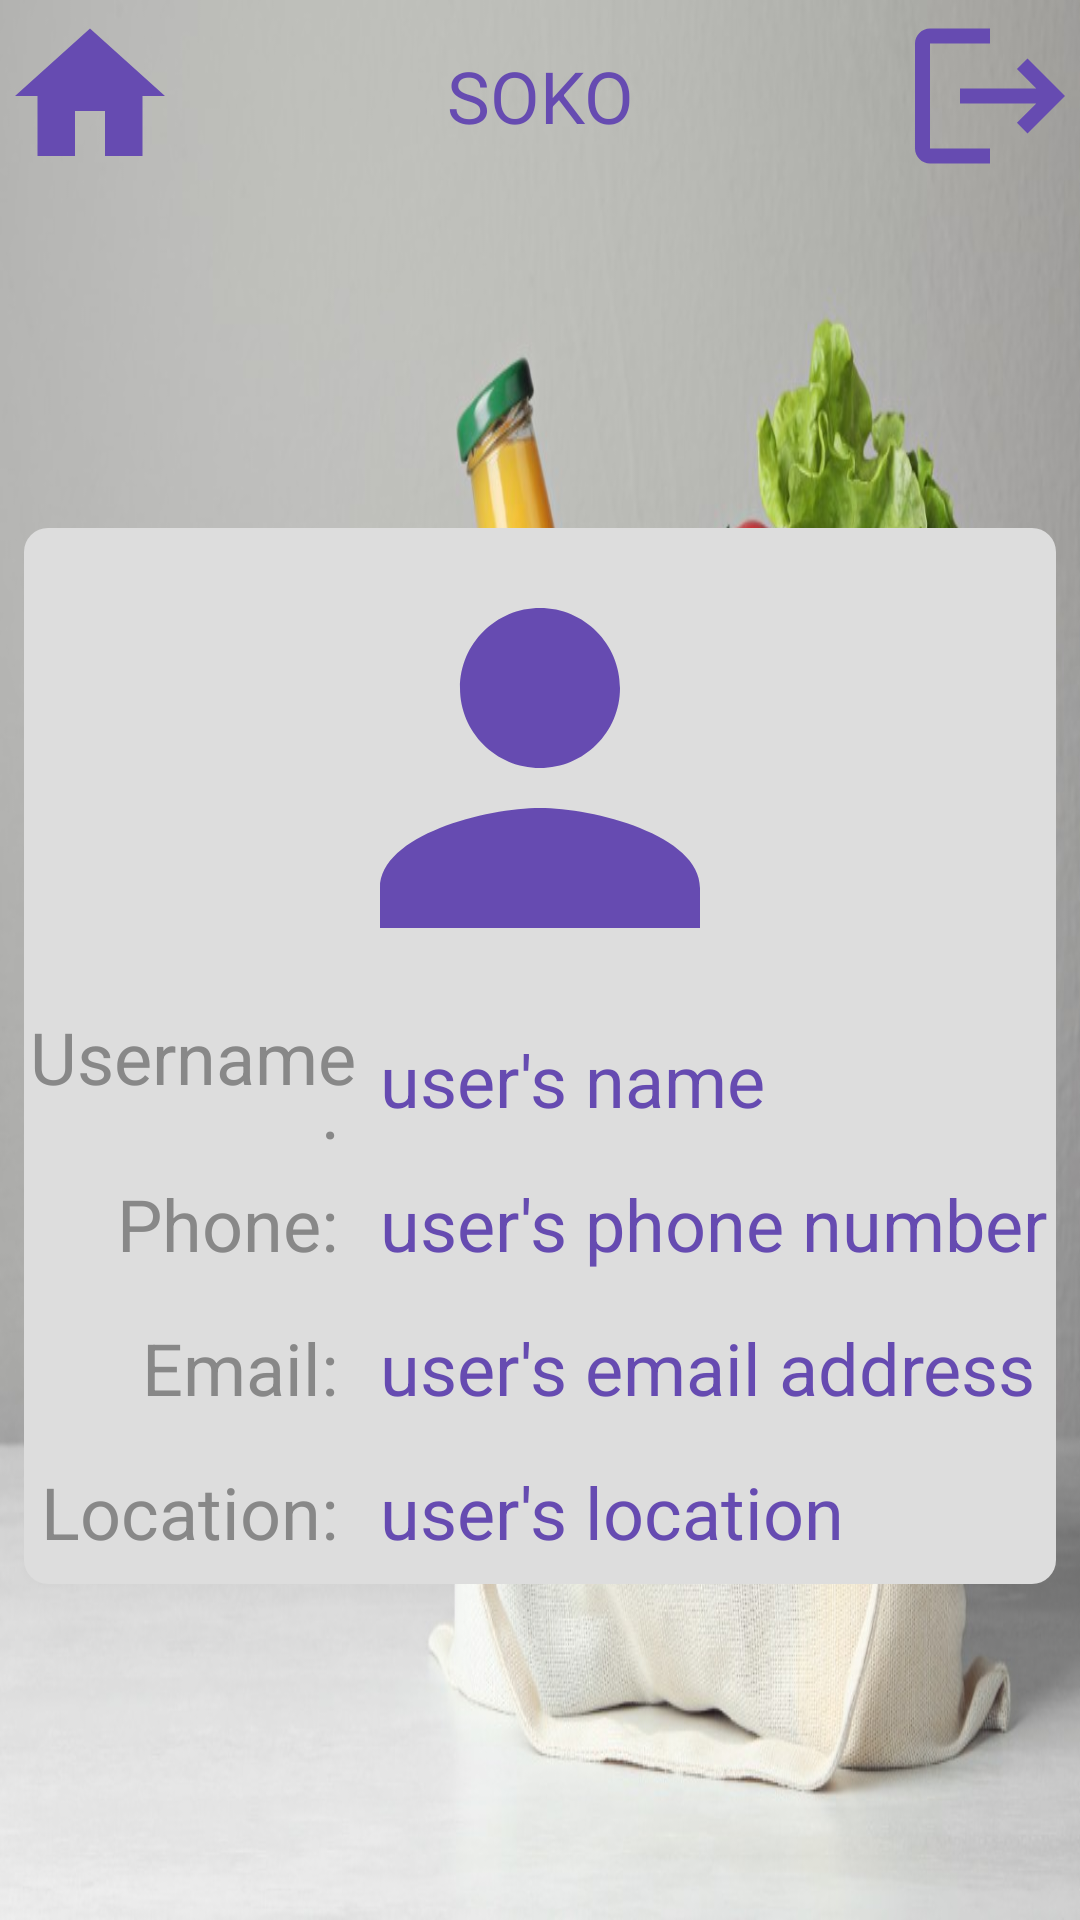

Point at icon controls on the screen. Image size 1080px×1920px, points as (x,y).
home: (90,92)
profile: (540,768)
